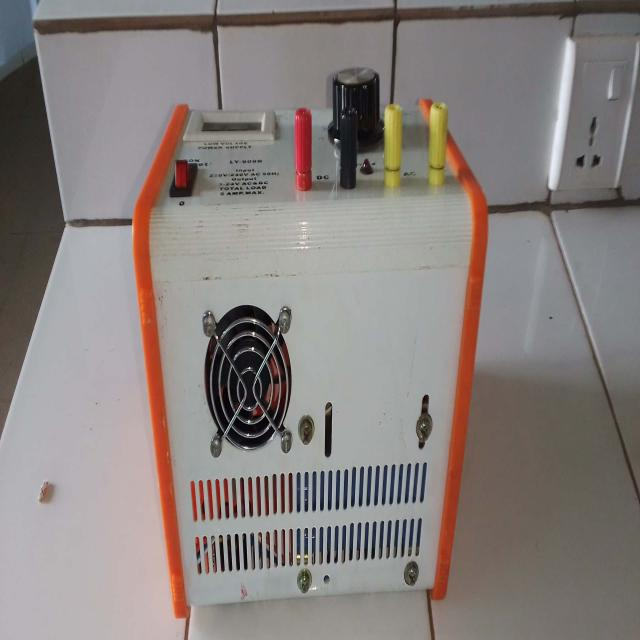Digital Power Supply: (128, 68, 490, 615)
